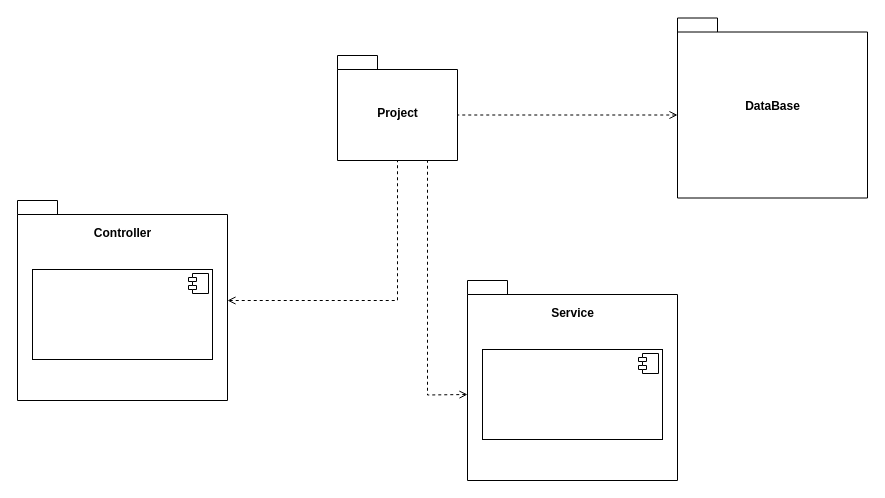
Some shapes in this 885 by 498 pixel diagram are drawn without their labels. The centre of each missing label's shape, as x and y in pixels:
"Component + All services" goes at pixel 572 394.
"Servlet + All API" goes at pixel 122 314.
